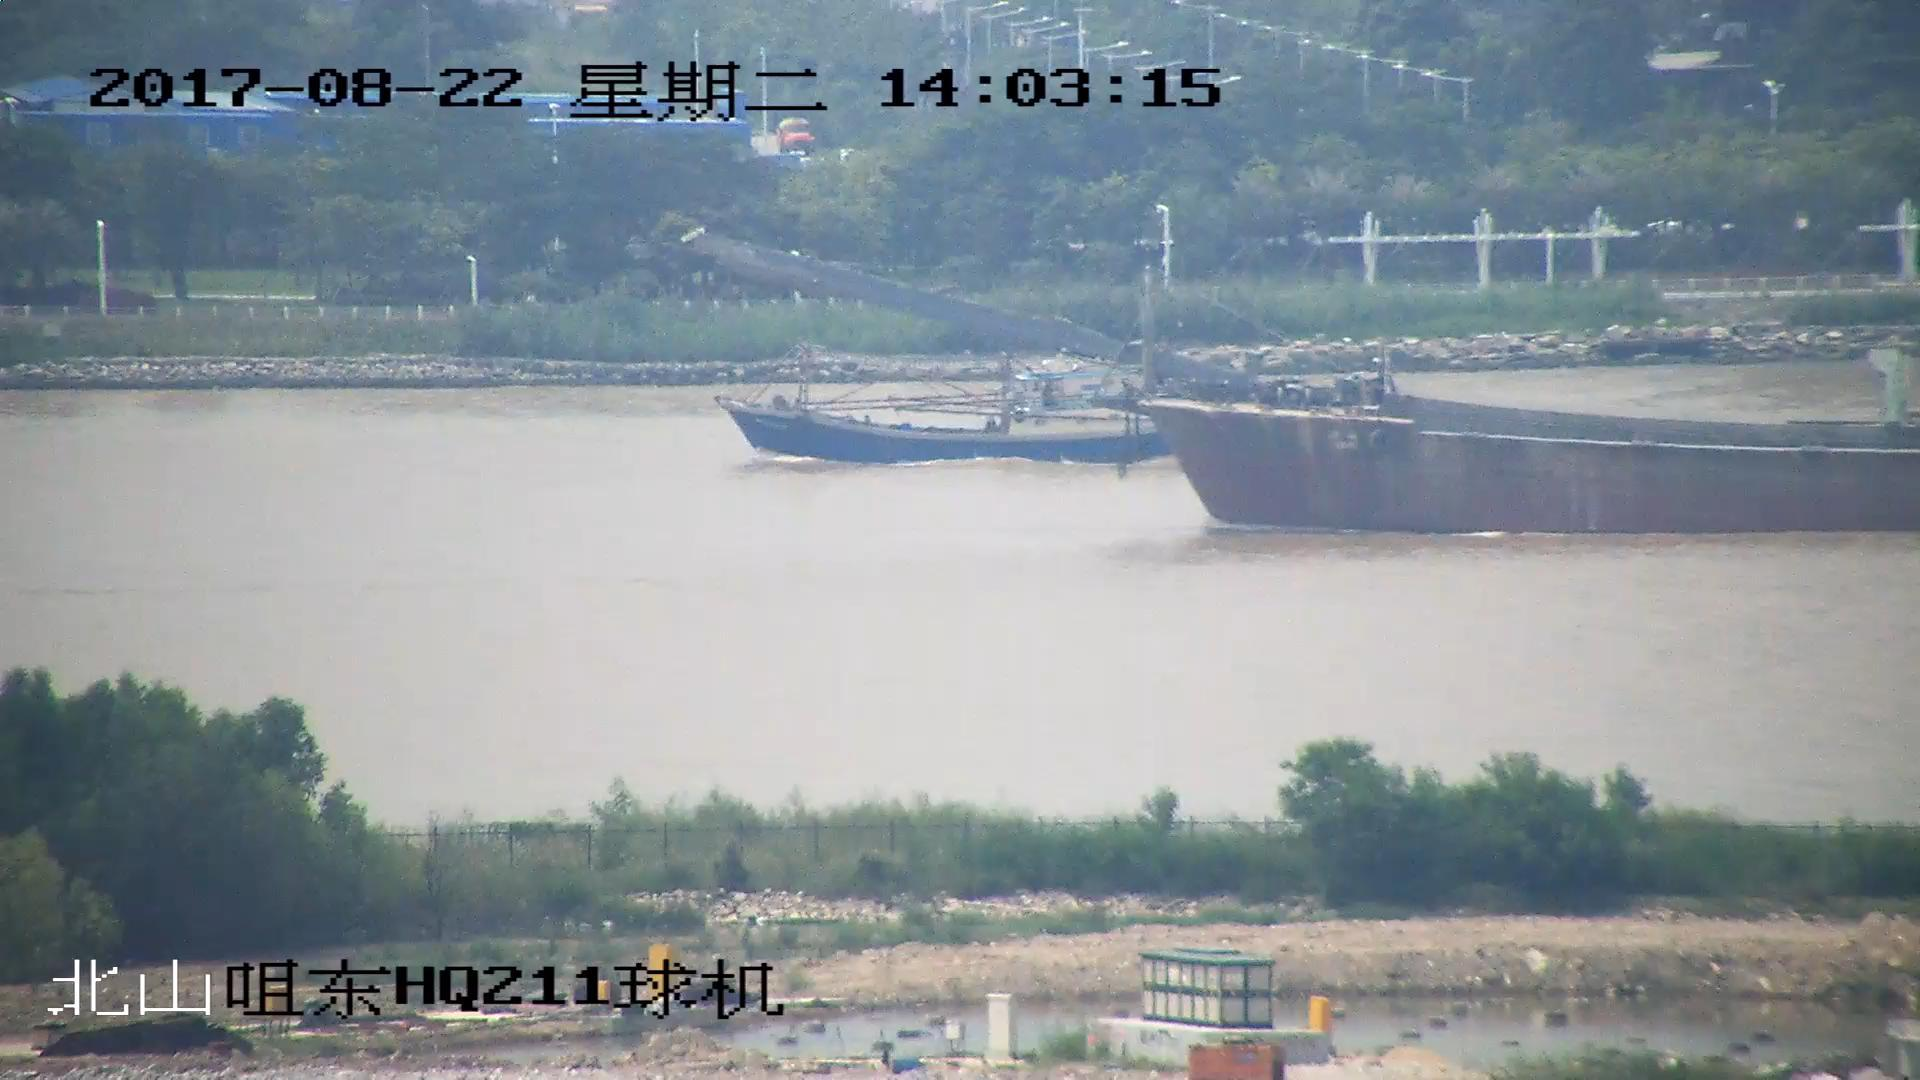Ship: (684, 225, 1920, 537), (723, 347, 1168, 469)
